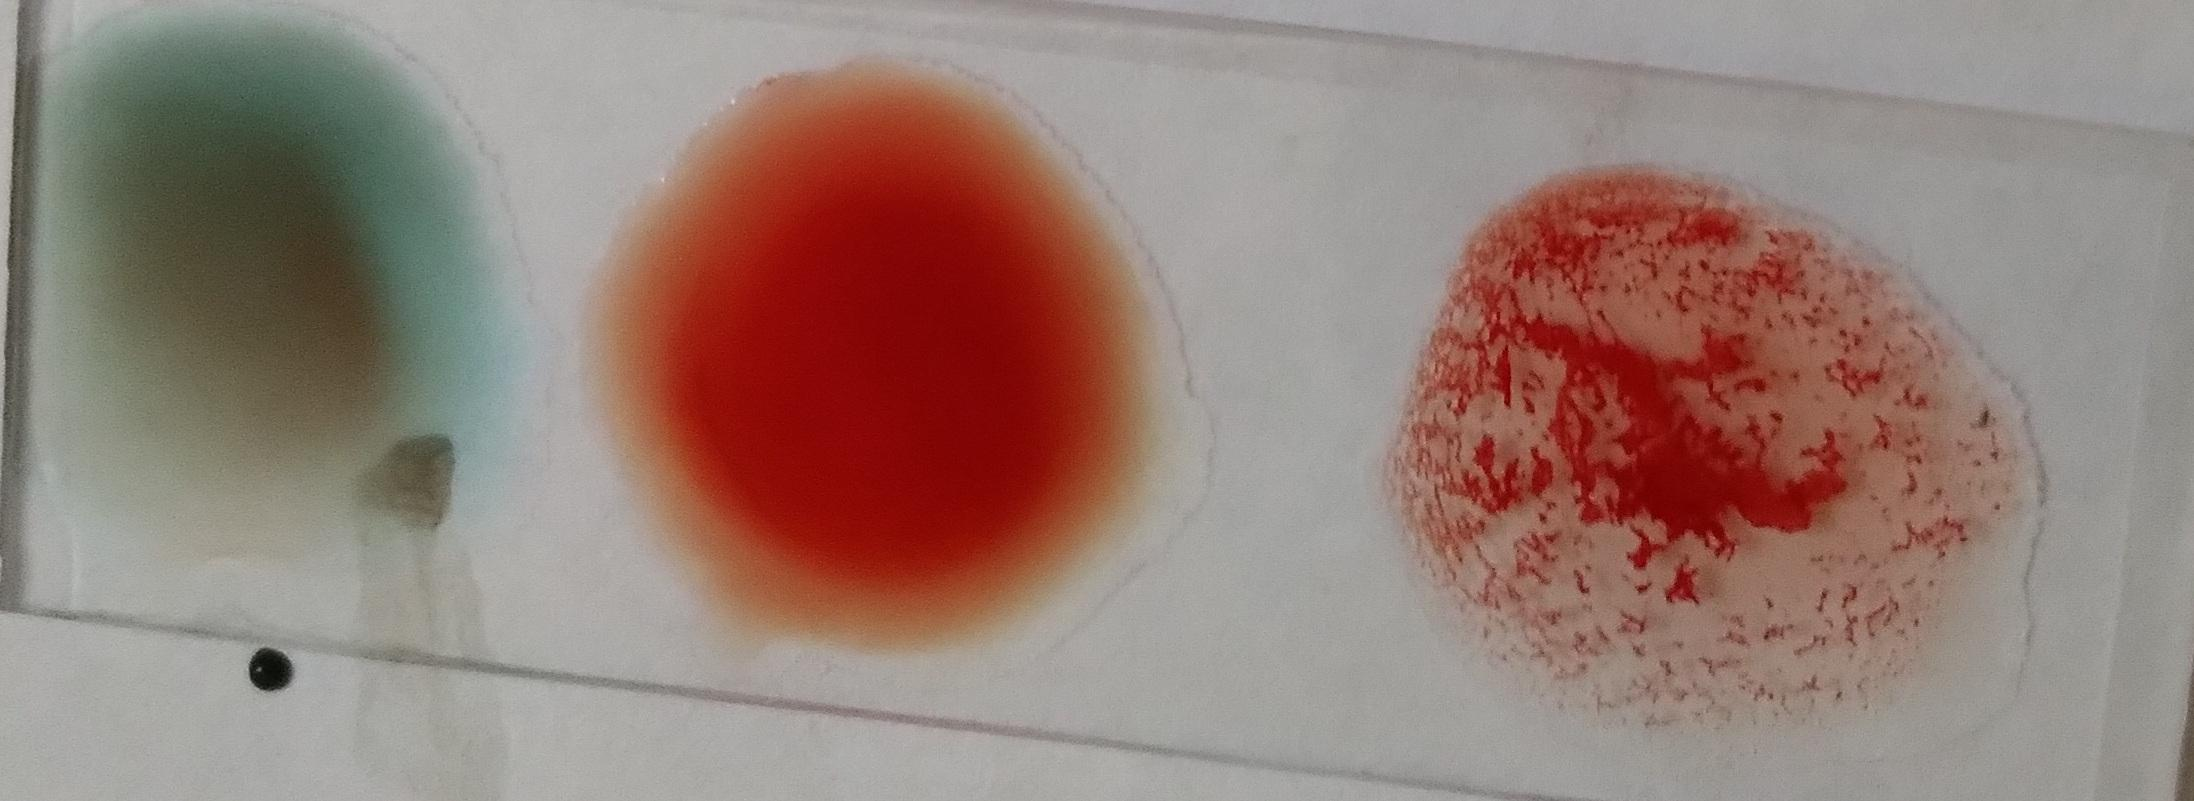D: (1382, 162, 2041, 749)
